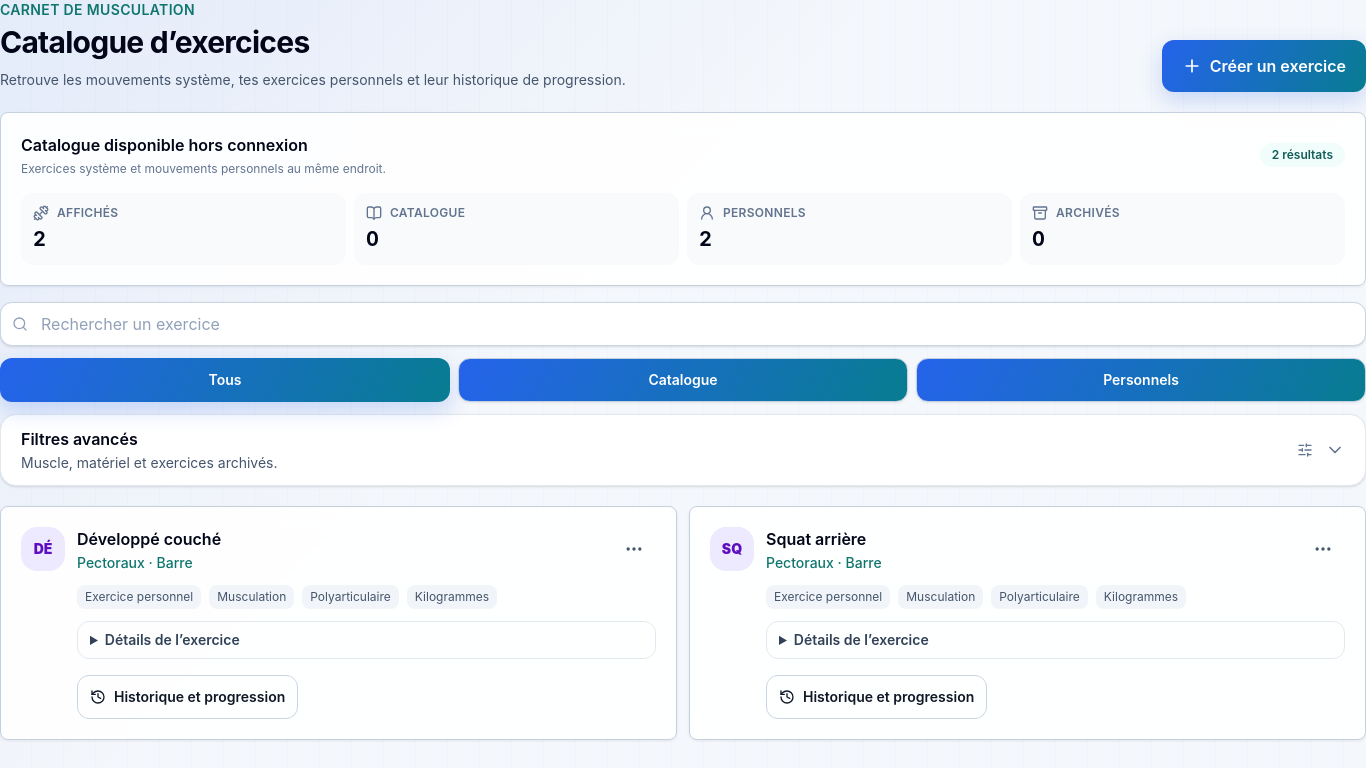
Scenario: StrengthExercisesPage › garde une erreur locale unique et le payload lorsque l’archivage échoue
The width and height of the screenshot is (1366, 768).
Click the button named "Actions pour Squat arrière".
click(1323, 549)  # box [1301,527,1345,571]
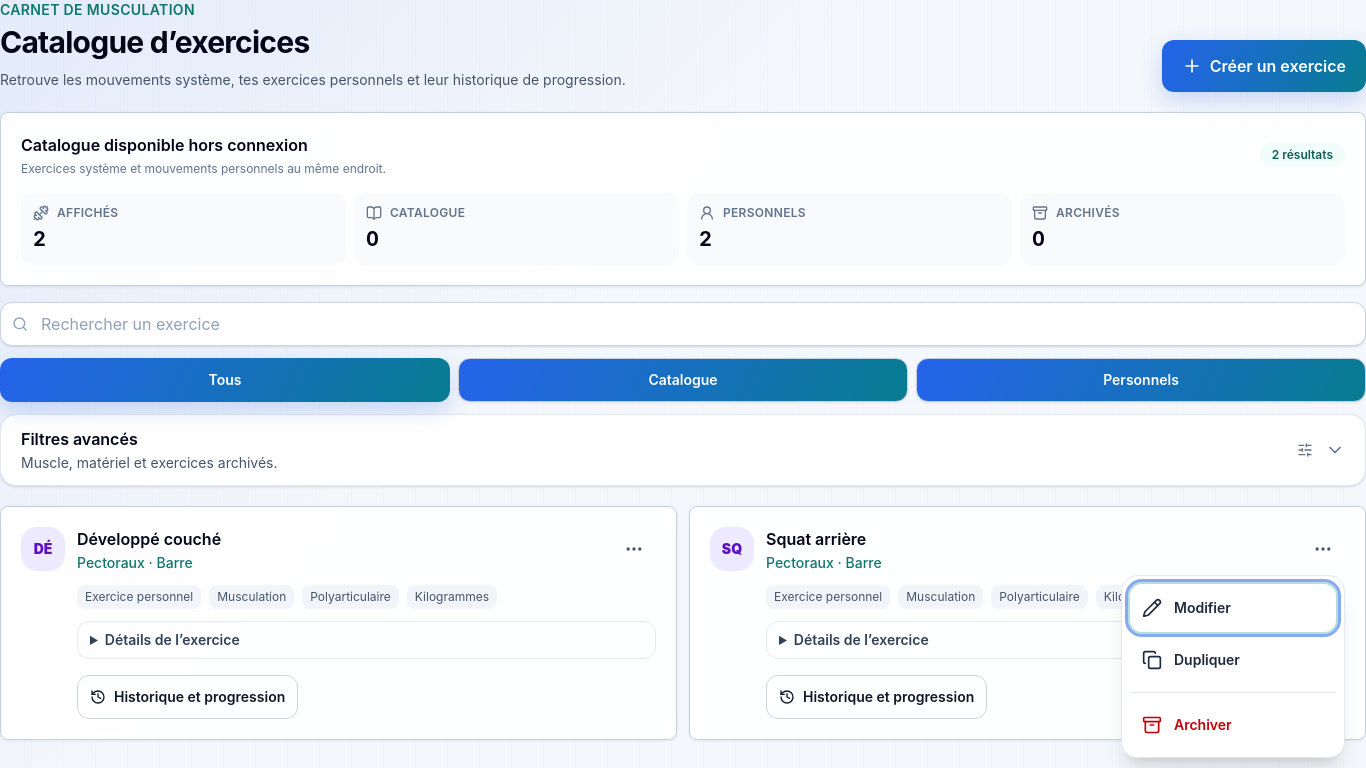
Click the menu item "Archiver".
click(1233, 725)  # box [1130,701,1336,749]
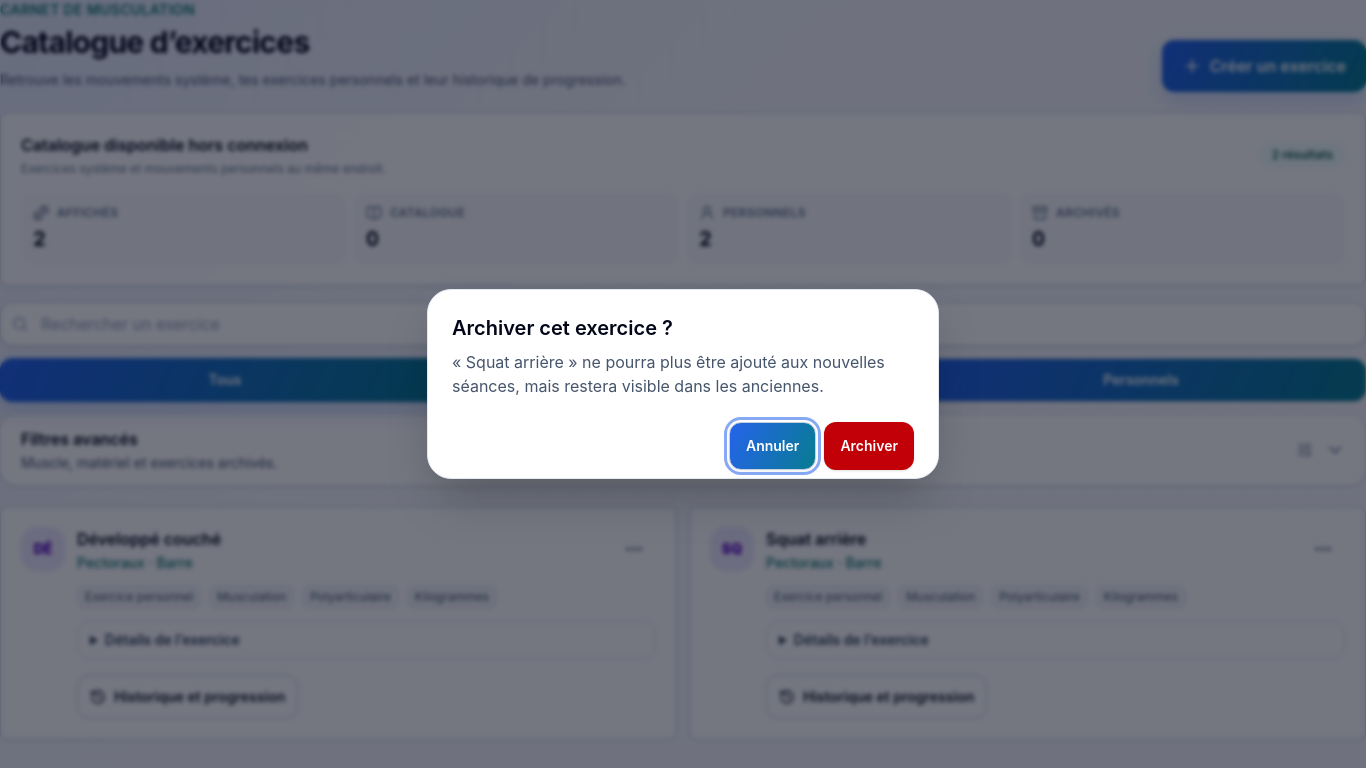
Click the button "Archiver".
click(869, 446)  # box [824,422,914,470]
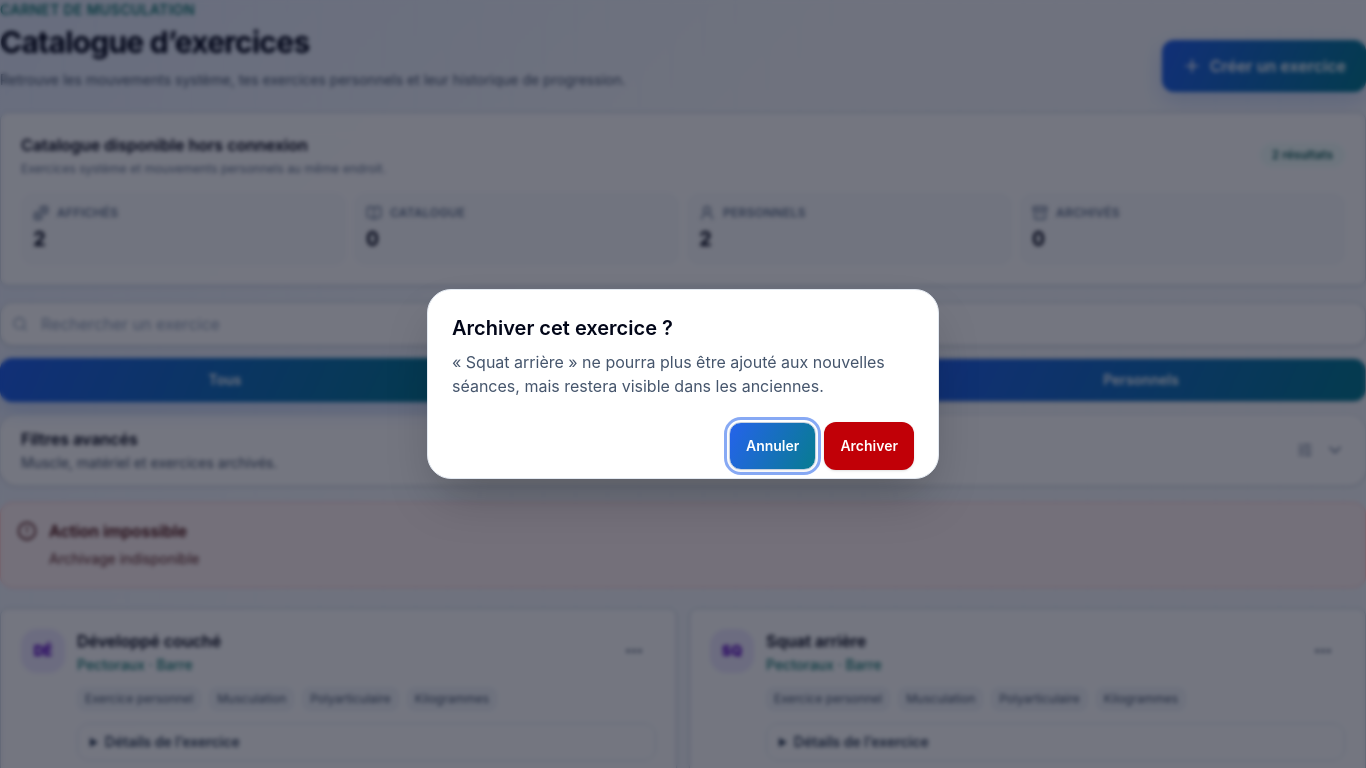
Expected: the text "Archivage indisponible" is shown, [49,547,200,571]
Expected: the number of messages is 1, [0,502,1365,588]
